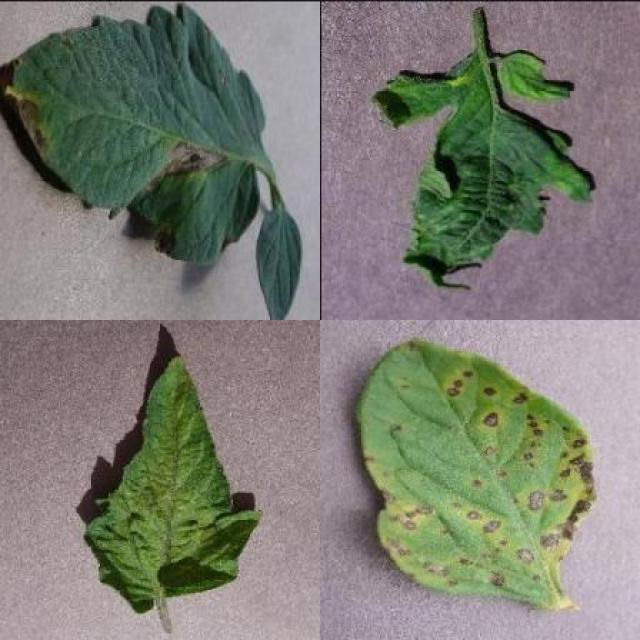Early Blight: (1, 0, 263, 266)
Healthy: (254, 207, 302, 320)
Mosaic Virus: (370, 49, 590, 294)
Septoria: (361, 336, 598, 606)
Spider Mites: (83, 352, 261, 614)
